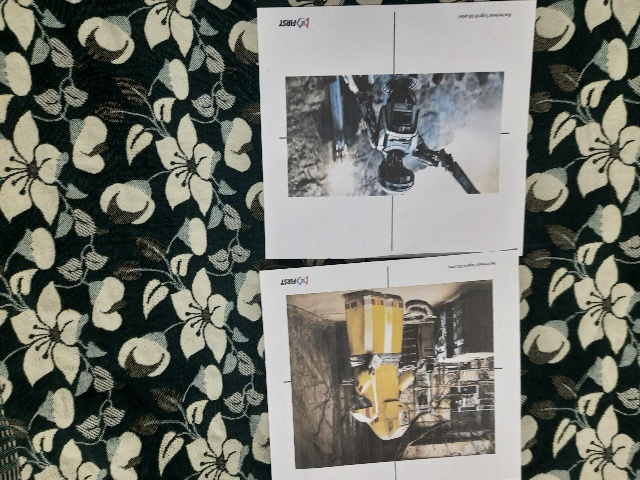bpt2: (270, 17, 511, 250)
rpt2: (273, 278, 504, 476)
